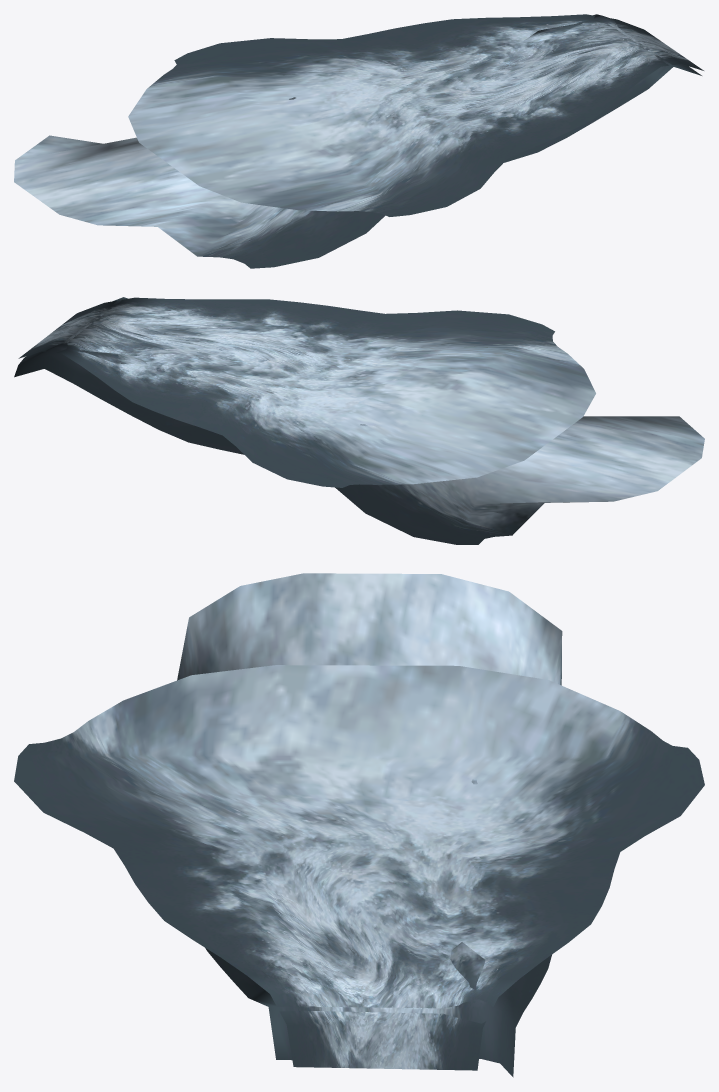
Rendered from waterfalls_set1_high_hat.obj.
The picture shows the model from 3 angles, top to bottom: view 1: azimuth 30°, elevation 25°; view 2: azimuth 150°, elevation 25°; view 3: azimuth 270°, elevation 25°; orthographic projection. The views are drawn at different scales.
Visible parts, largest first — view 1: Geoset1, Geoset0; view 2: Geoset1, Geoset0; view 3: Geoset1, Geoset0.
Part boxes in pixels (box(x1,y1,x2,y2)): Geoset1: box(128, 14, 703, 216); Geoset0: box(14, 14, 701, 268); Geoset1: box(18, 297, 595, 487); Geoset0: box(14, 297, 704, 544); Geoset1: box(14, 665, 704, 1070); Geoset0: box(177, 573, 562, 1077).
Size of the model in its own units: 86.36 by 9.33 by 52.85.
1 material, 1 textured.
